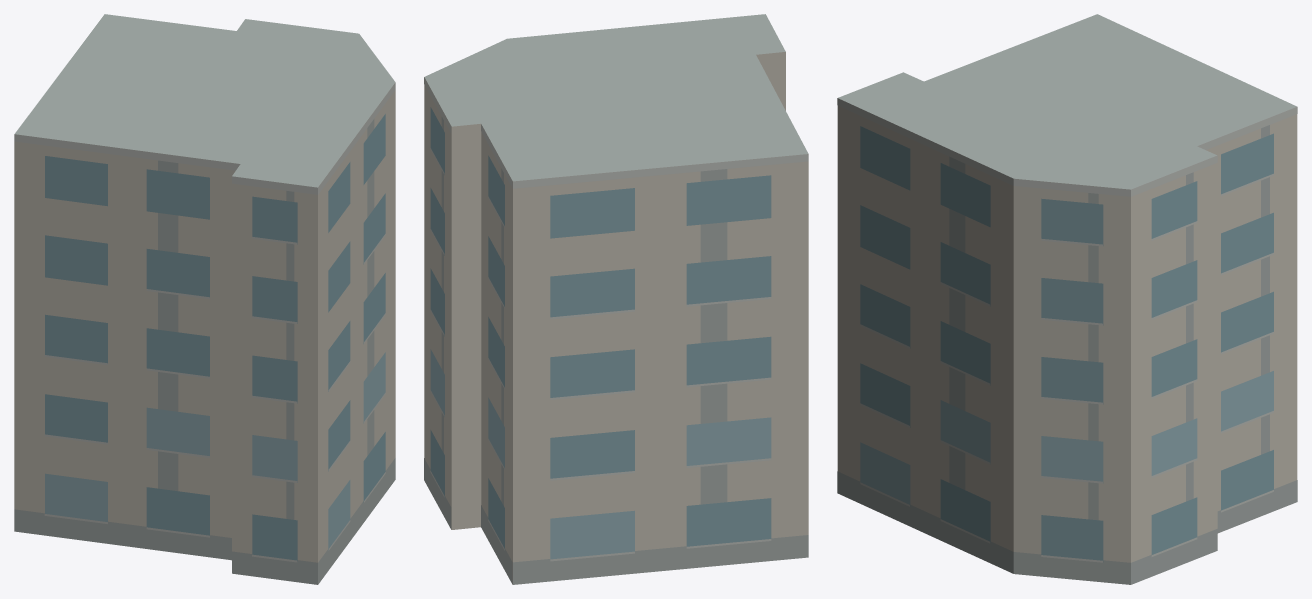
File: survey-upis-32747512.glb
3 renders of one model, left to right at view 1: azimuth 30°, elevation 25°; view 2: azimuth 150°, elevation 25°; view 3: azimuth 270°, elevation 25°, orthographic. The views are drawn at different scales.
Visible parts, largest first — view 1: survey-upis-32747512.tmp; view 2: survey-upis-32747512.tmp; view 3: survey-upis-32747512.tmp.
Part boxes in pixels (box(x1,y1,x2,y2)): survey-upis-32747512.tmp: box(14, 14, 395, 584); survey-upis-32747512.tmp: box(424, 14, 808, 584); survey-upis-32747512.tmp: box(837, 14, 1297, 584).
Bounding box in the file's own units: 12.58 × 13.2 × 13.93.
